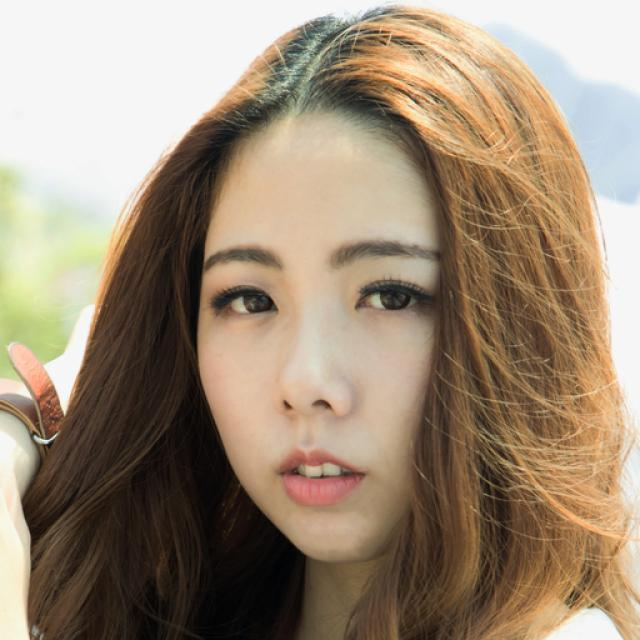neutral: (195, 101, 444, 564)
